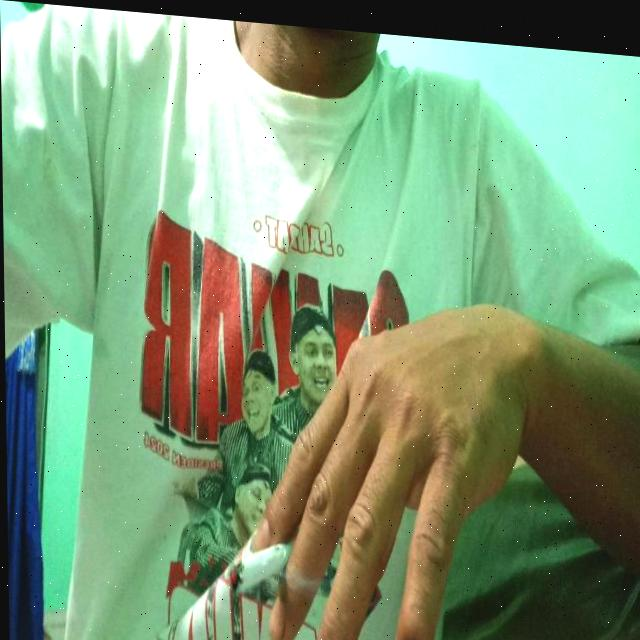cigarette: (228, 535, 287, 594)
